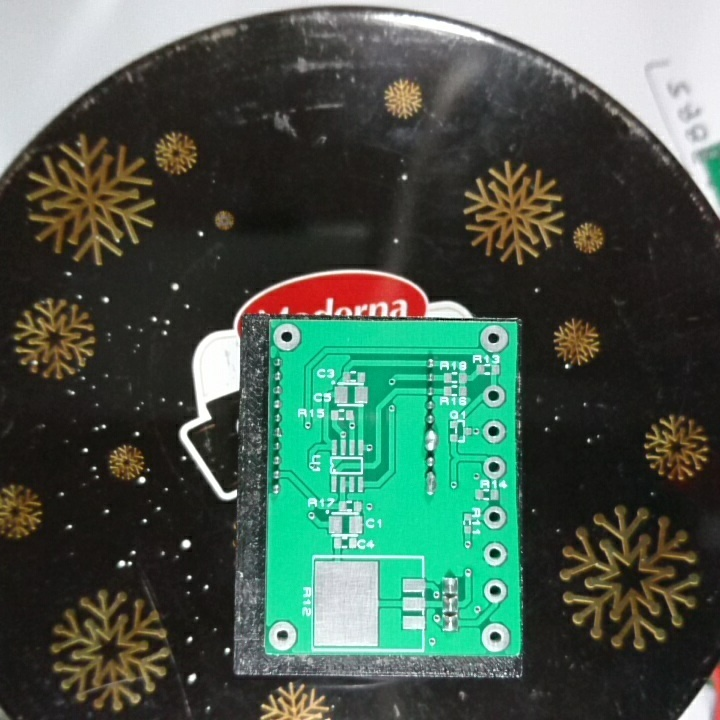F: (265, 618, 302, 651), (480, 620, 513, 654), (478, 320, 510, 355), (271, 321, 304, 352), (479, 418, 509, 446), (480, 504, 509, 531), (481, 542, 510, 569), (480, 453, 508, 480), (482, 576, 510, 603), (481, 383, 509, 409)
P: (422, 427, 440, 454), (422, 471, 439, 496)
